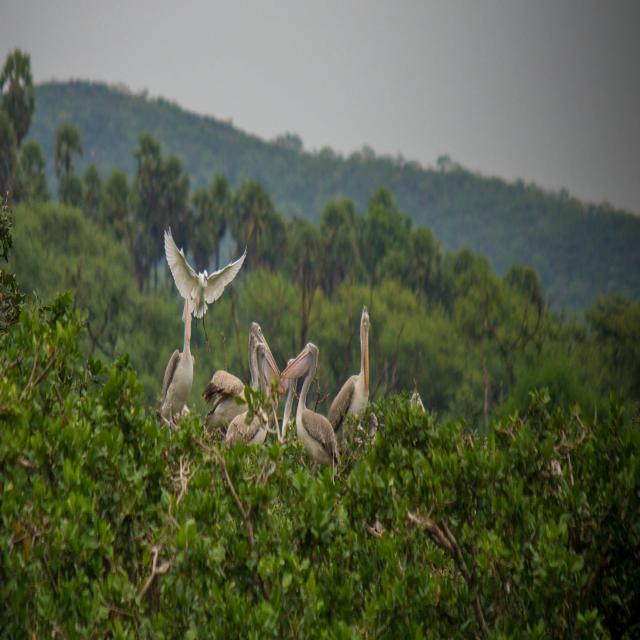bird: (204, 310, 276, 458), (159, 230, 253, 335), (281, 338, 339, 476), (164, 284, 200, 441), (339, 291, 373, 441)
